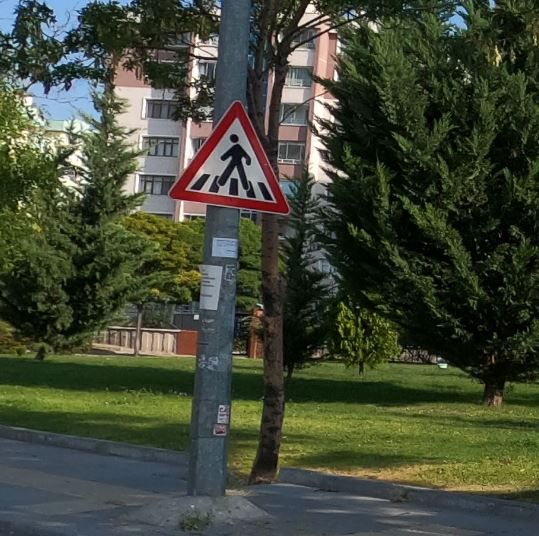Yaya Gecidi: (170, 95, 293, 214)
